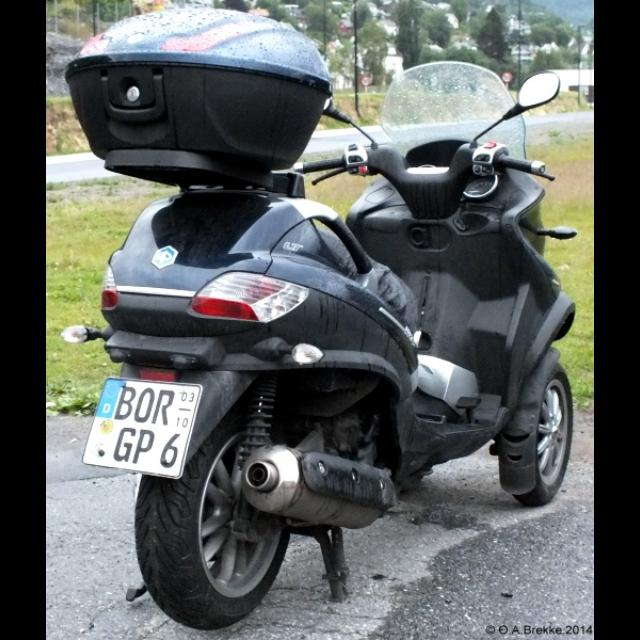d_license_plate: (82, 376, 202, 476)
